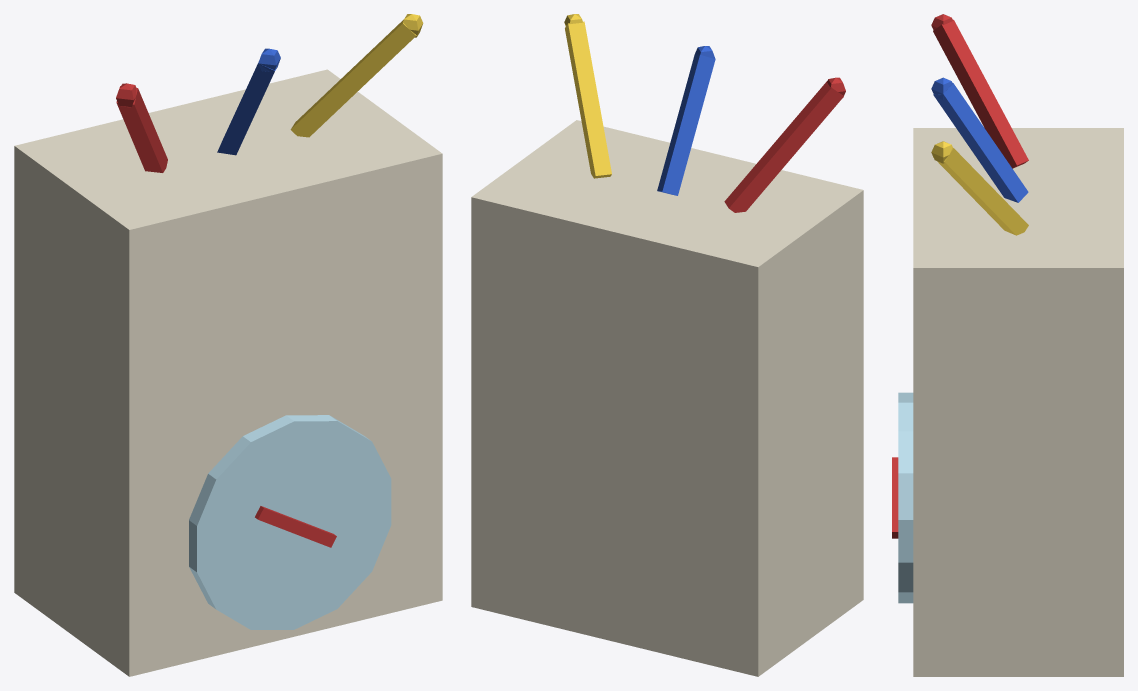
Rendered from gym_power_meter.glb.
3 renders of one model, left to right at view 1: azimuth 30°, elevation 25°; view 2: azimuth 150°, elevation 25°; view 3: azimuth 270°, elevation 25°, orthographic. The views are drawn at different scales.
Parts seen in each view (by area): view 1: box_meter_cream, dial_meter_glass, wires_wire_f2d24a, wires_wire_c83a3a, wires_wire_3a6ad8, dial_meter_needle; view 2: box_meter_cream, wires_wire_c83a3a, wires_wire_f2d24a, wires_wire_3a6ad8; view 3: box_meter_cream, wires_wire_c83a3a, wires_wire_3a6ad8, dial_meter_glass, wires_wire_f2d24a, dial_meter_needle.
Boxes of the visible parts, x1,y1,x2,y2 form: box_meter_cream: [14, 69, 442, 676]; dial_meter_glass: [189, 415, 391, 629]; wires_wire_f2d24a: [290, 14, 423, 137]; wires_wire_c83a3a: [116, 83, 167, 172]; wires_wire_3a6ad8: [217, 48, 280, 155]; dial_meter_needle: [255, 506, 336, 547]; box_meter_cream: [471, 120, 863, 676]; wires_wire_c83a3a: [724, 77, 845, 212]; wires_wire_f2d24a: [564, 14, 611, 178]; wires_wire_3a6ad8: [657, 46, 715, 195]; box_meter_cream: [913, 128, 1123, 676]; wires_wire_c83a3a: [931, 14, 1028, 168]; wires_wire_3a6ad8: [931, 77, 1028, 202]; dial_meter_glass: [898, 392, 913, 603]; wires_wire_f2d24a: [931, 141, 1028, 235]; dial_meter_needle: [892, 457, 898, 538].
Bounding box in the file's own units: 0.22 × 0.388 × 0.154.
